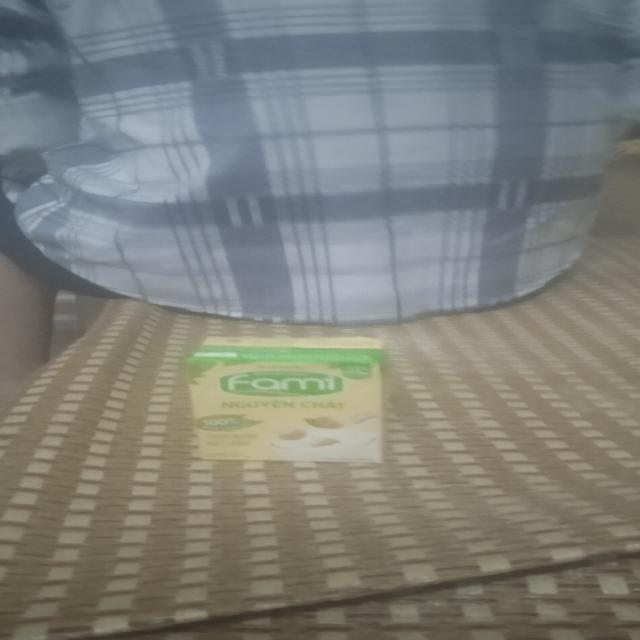Fami: (187, 337, 393, 463)
